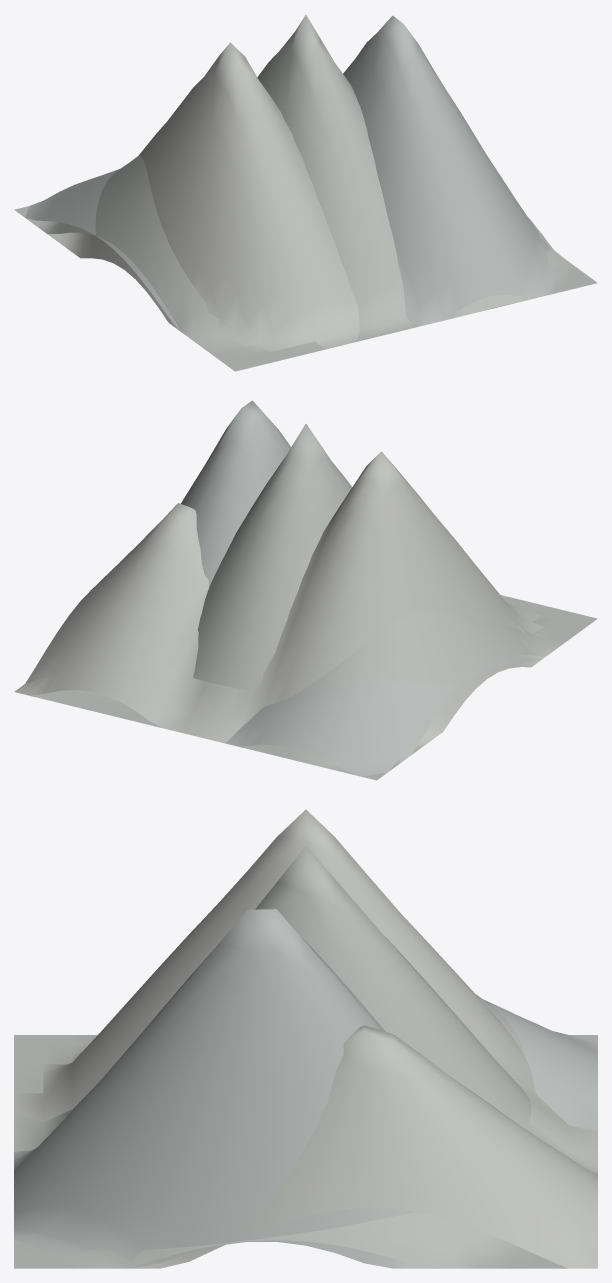
File: ridges.fbx
The picture shows the model from 3 angles, top to bottom: view 1: azimuth 30°, elevation 25°; view 2: azimuth 150°, elevation 25°; view 3: azimuth 270°, elevation 25°; orthographic projection. The views are drawn at different scales.
Visible parts, largest first — view 1: Mountain2, Mountain3, Mountain1; view 2: Mountain2, Mountain1, Mountain3; view 3: Mountain3, Mountain2, Mountain1.
Part boxes in pixels (x1,y1,x2,y2): Mountain2: (47,42,519,352); Mountain3: (25,15,560,330); Mountain1: (14,15,597,371); Mountain2: (14,451,551,755); Mountain1: (30,424,597,780); Mountain3: (181,400,542,776); Mountain3: (14,909,597,1268); Mountain2: (14,809,597,1268); Mountain1: (14,846,597,1268).
Size of the model in its own units: 18000 by 11000 by 19000.
Materials: 1 (1 with a texture image).
